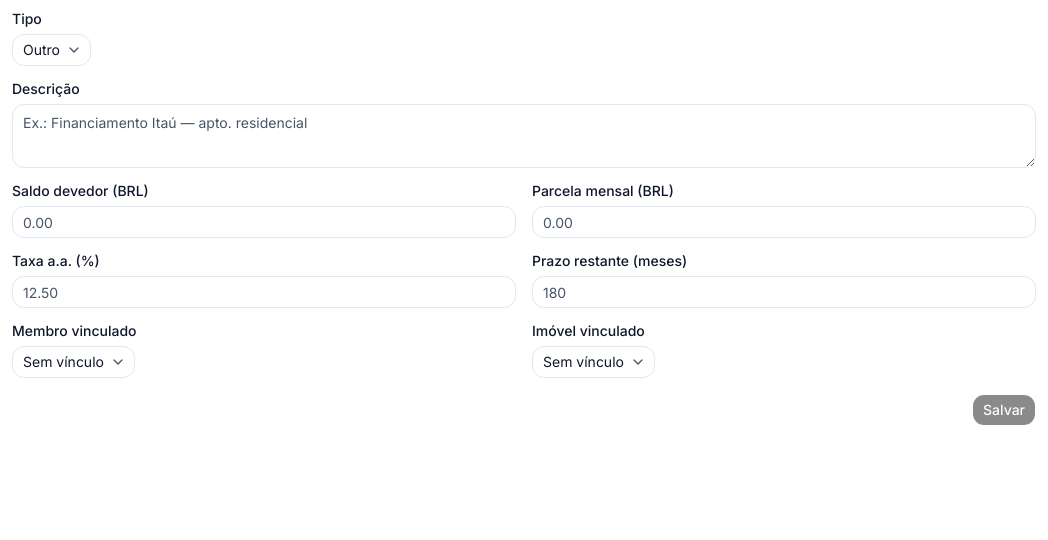
Test: DebtForm › mostra percentual_atribuicao_imovel quando property tem >1 cotitular
Click the dropdown named "Imóvel vinculado" at (593, 362), box [532,346,655,378]
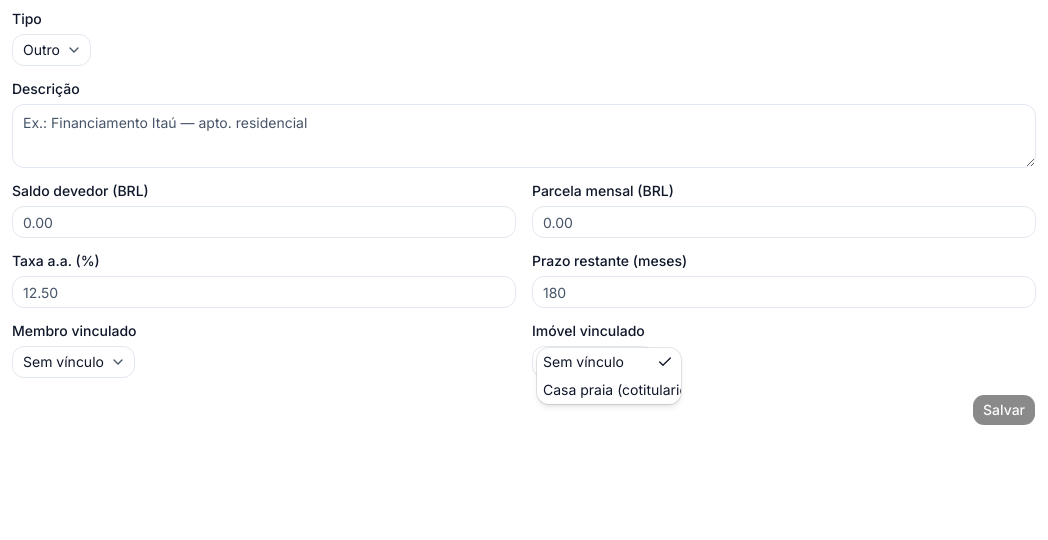
Click the option "Casa praia (cotitularidade)" at (609, 390), box [537,376,681,404]
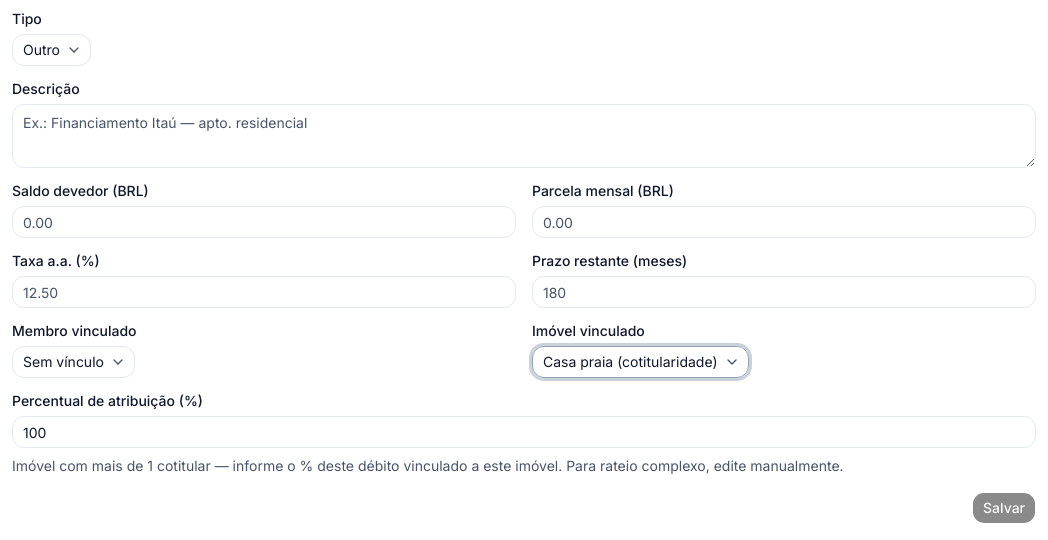
Expected: the field labelled "Percentual de atribuição (%)" is shown, [12,416,1036,448]
